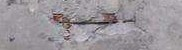Exposed reinforcement: (69, 20, 110, 25), (122, 18, 136, 23)
Spalling: (49, 12, 119, 41)
